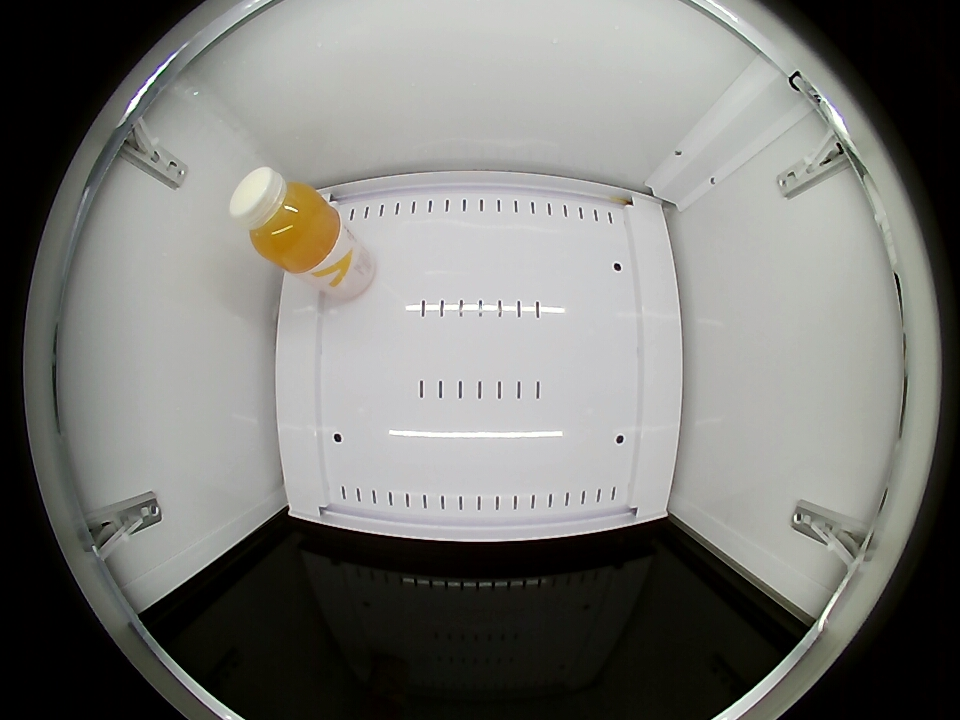weic: (230, 167, 340, 273)
